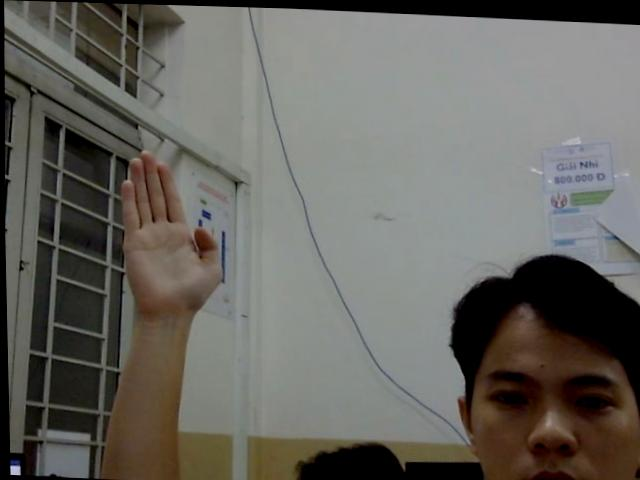B: (109, 144, 225, 305)
